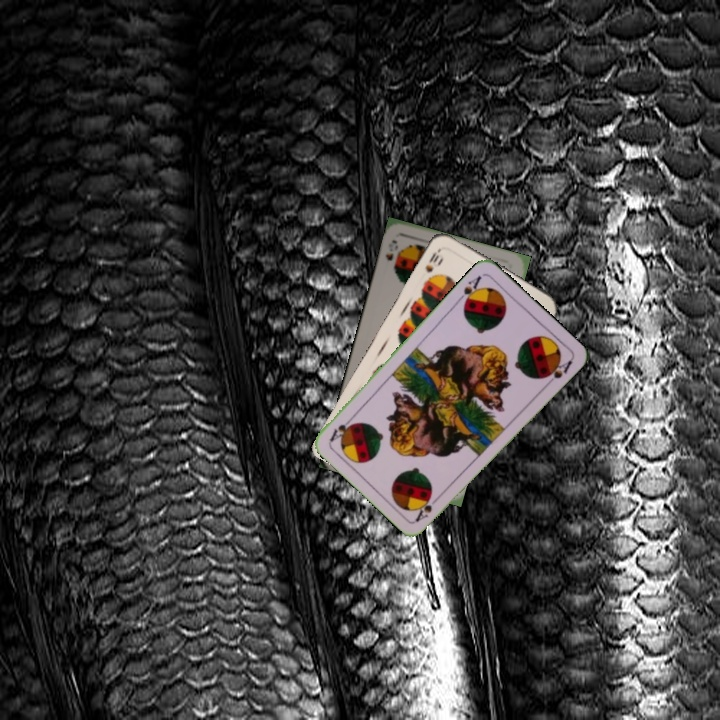S10: (421, 248, 442, 275)
SA: (454, 271, 485, 309), (411, 491, 442, 524)
SO: (381, 236, 401, 263)
